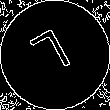L_SE: (29, 26, 81, 84)
